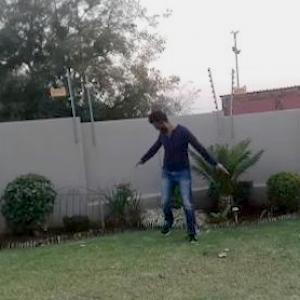land: (122, 108, 231, 250)
